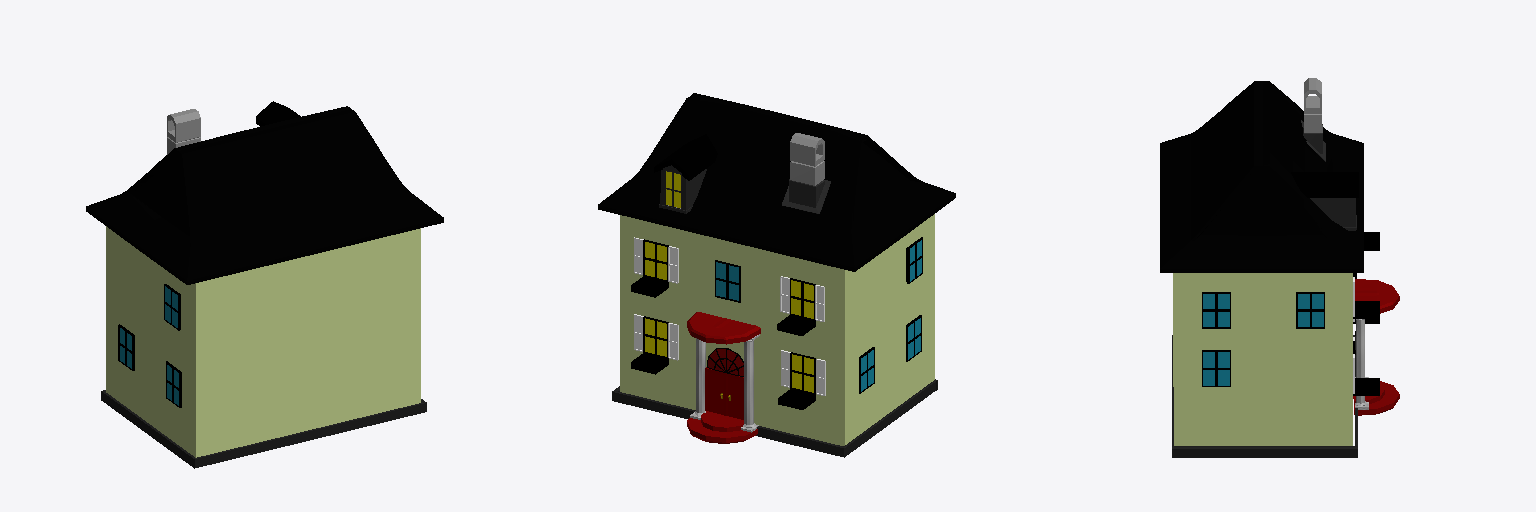
3 views of the same model, side by side, from view 1: azimuth 30°, elevation 25°; view 2: azimuth 150°, elevation 25°; view 3: azimuth 270°, elevation 25° (orthographic).
Parts seen in each view (by area): view 1: Roof_with_edge001, House_4a, House_, House_4a001, house_base006, Smoke_stack_003, window017, window015, roof_window003, window016; view 2: Roof_with_edge001, House_4a, House_, House_4a001, roof_window003, house_base006, window_with_box016, window_with_box013, window_with_box015, window_with_box014, Smoke_stack_003, double_door004 (+10 smaller); view 3: Roof_with_edge001, House_, House_4a, House_4a001, roof_window003, house_base006, window012, window013, window014, Object784, Smoke_stack_003, steps003 (+3 smaller).
Boxes of the visible parts, box(x1,y1,x2,y2) form: Roof_with_edge001: box(86, 106, 443, 284); House_4a: box(106, 269, 420, 398); House_: box(106, 334, 420, 457); House_4a001: box(106, 226, 420, 333); house_base006: box(101, 390, 426, 468); Smoke_stack_003: box(167, 109, 200, 154); window017: box(164, 284, 180, 330); window015: box(118, 324, 134, 370); roof_window003: box(256, 101, 300, 126); window016: box(166, 361, 181, 407); Roof_with_edge001: box(598, 93, 955, 271); House_4a: box(620, 256, 934, 386); House_: box(620, 322, 934, 445); House_4a001: box(620, 214, 934, 321); roof_window003: box(654, 134, 717, 213); house_base006: box(612, 379, 937, 457); window_with_box016: box(777, 276, 824, 335); window_with_box013: box(631, 314, 678, 374); window_with_box015: box(631, 237, 678, 297); window_with_box014: box(778, 350, 825, 409); Smoke_stack_003: box(790, 133, 824, 185); double_door004: box(705, 367, 743, 419); Roof_with_edge001: box(1160, 81, 1363, 272); House_: box(1174, 386, 1352, 445); House_4a: box(1173, 322, 1352, 386); House_4a001: box(1173, 273, 1352, 321); roof_window003: box(1291, 172, 1358, 230); house_base006: box(1172, 335, 1357, 457); window012: box(1296, 292, 1324, 328); window013: box(1202, 292, 1230, 328); window014: box(1202, 350, 1230, 386); Object784: box(1355, 279, 1399, 313); Smoke_stack_003: box(1304, 78, 1322, 132); steps003: box(1353, 381, 1399, 415).
Bounding box in the file's own units: 14.87 × 15.99 × 11.98.
16 materials, 1 textured.